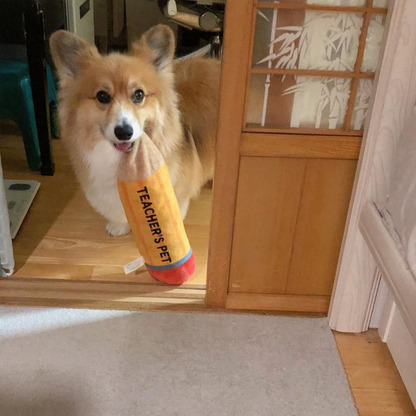Corgi: (36, 19, 239, 285)
